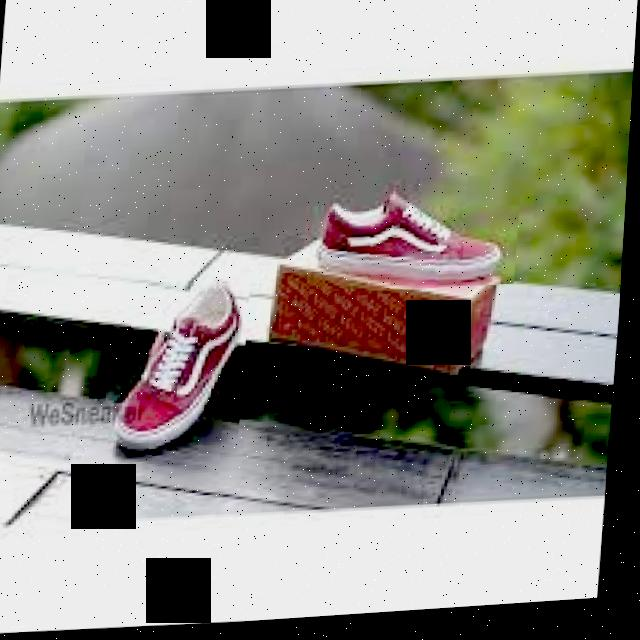shoe: (113, 279, 254, 462), (312, 182, 524, 301)
